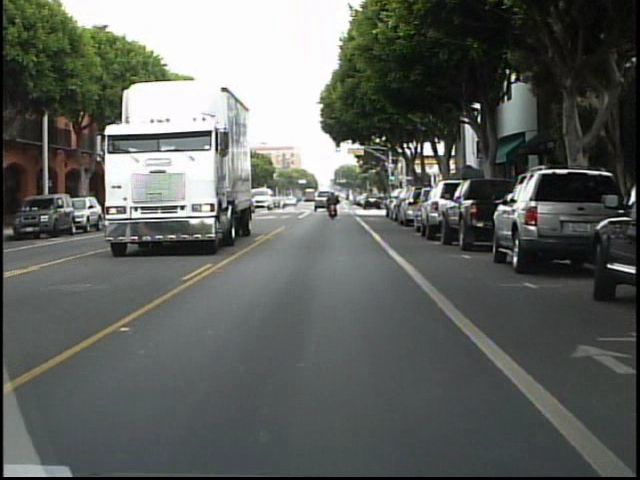person: (326, 192, 339, 223)
